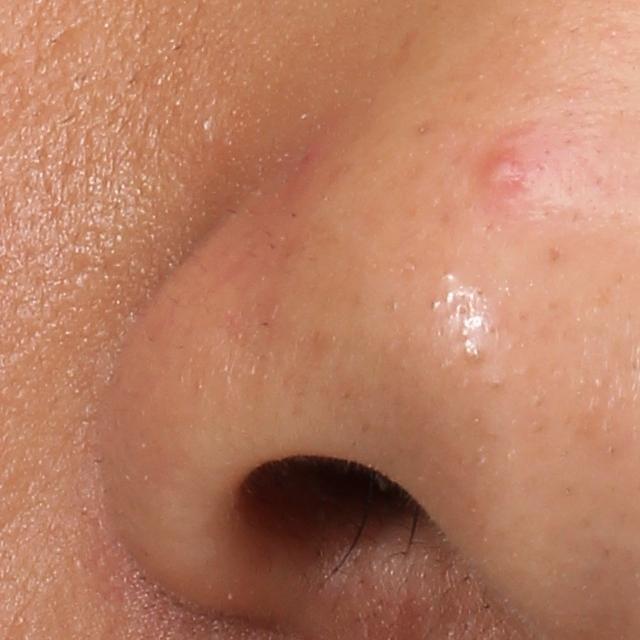comedo: (462, 347, 484, 365)
papule: (479, 153, 536, 198)
